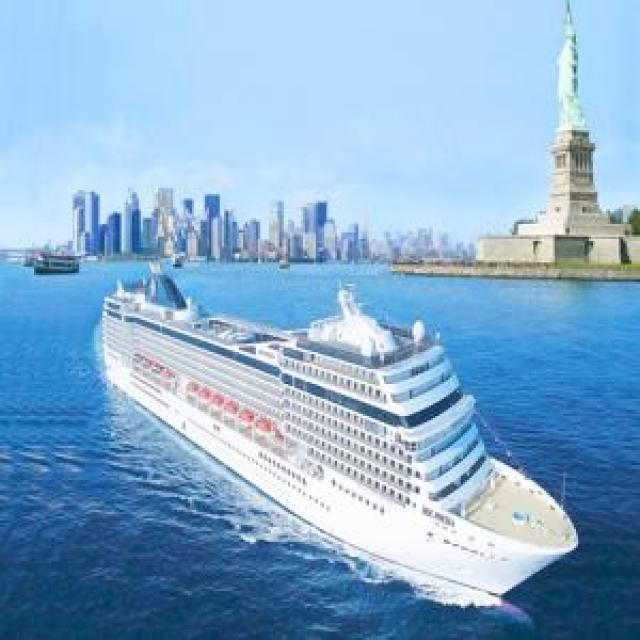passenger ship: (97, 234, 588, 610), (24, 239, 80, 276)
